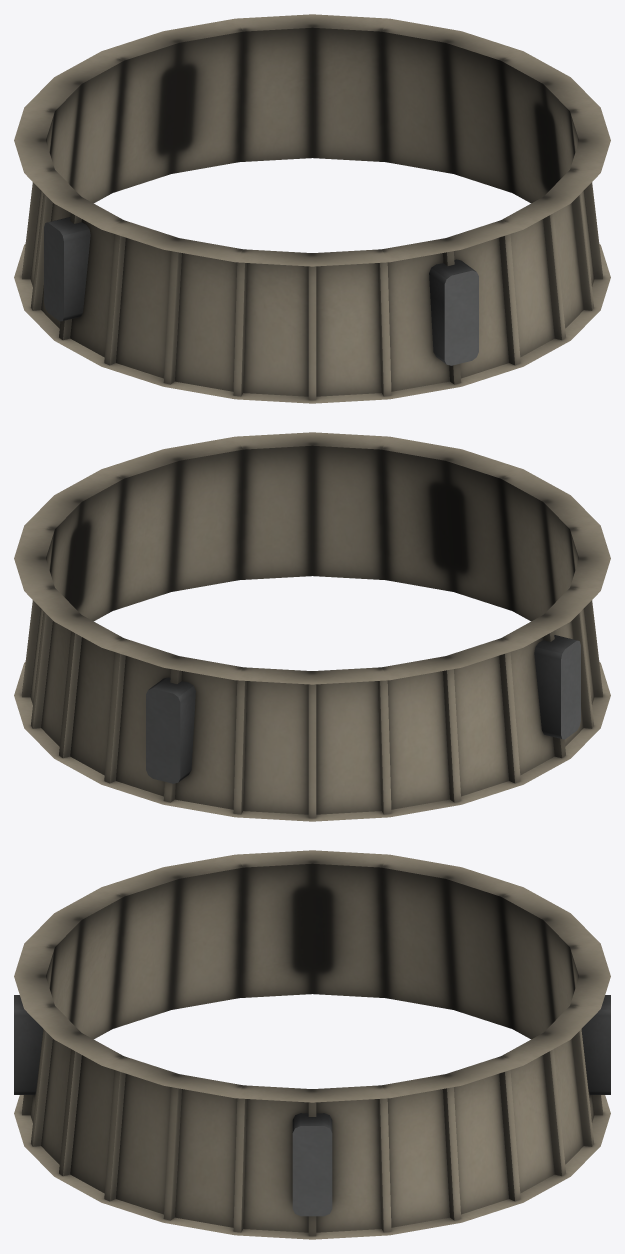
File: Alnair_Decoupler_1.obj
3 views of the same model, one above another, from view 1: azimuth 30°, elevation 25°; view 2: azimuth 150°, elevation 25°; view 3: azimuth 270°, elevation 25° (orthographic).
Parts seen in each view (by area): view 1: Alnair_Decoupler_1; view 2: Alnair_Decoupler_1; view 3: Alnair_Decoupler_1.
Part boxes in pixels (<box>): Alnair_Decoupler_1: <box>14,14,610,403</box>; Alnair_Decoupler_1: <box>14,432,610,821</box>; Alnair_Decoupler_1: <box>14,850,610,1239</box>.
Bounding box in the file's own units: 1.88 × 0.475 × 1.88.
